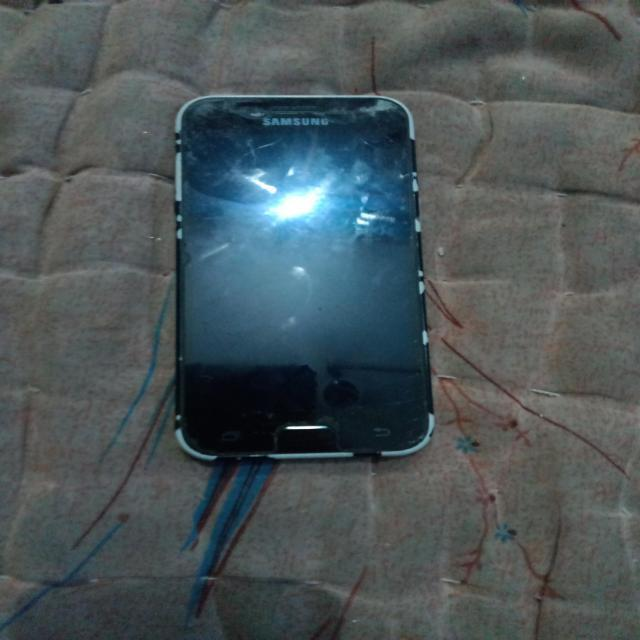cellphone: (174, 95, 437, 466)
